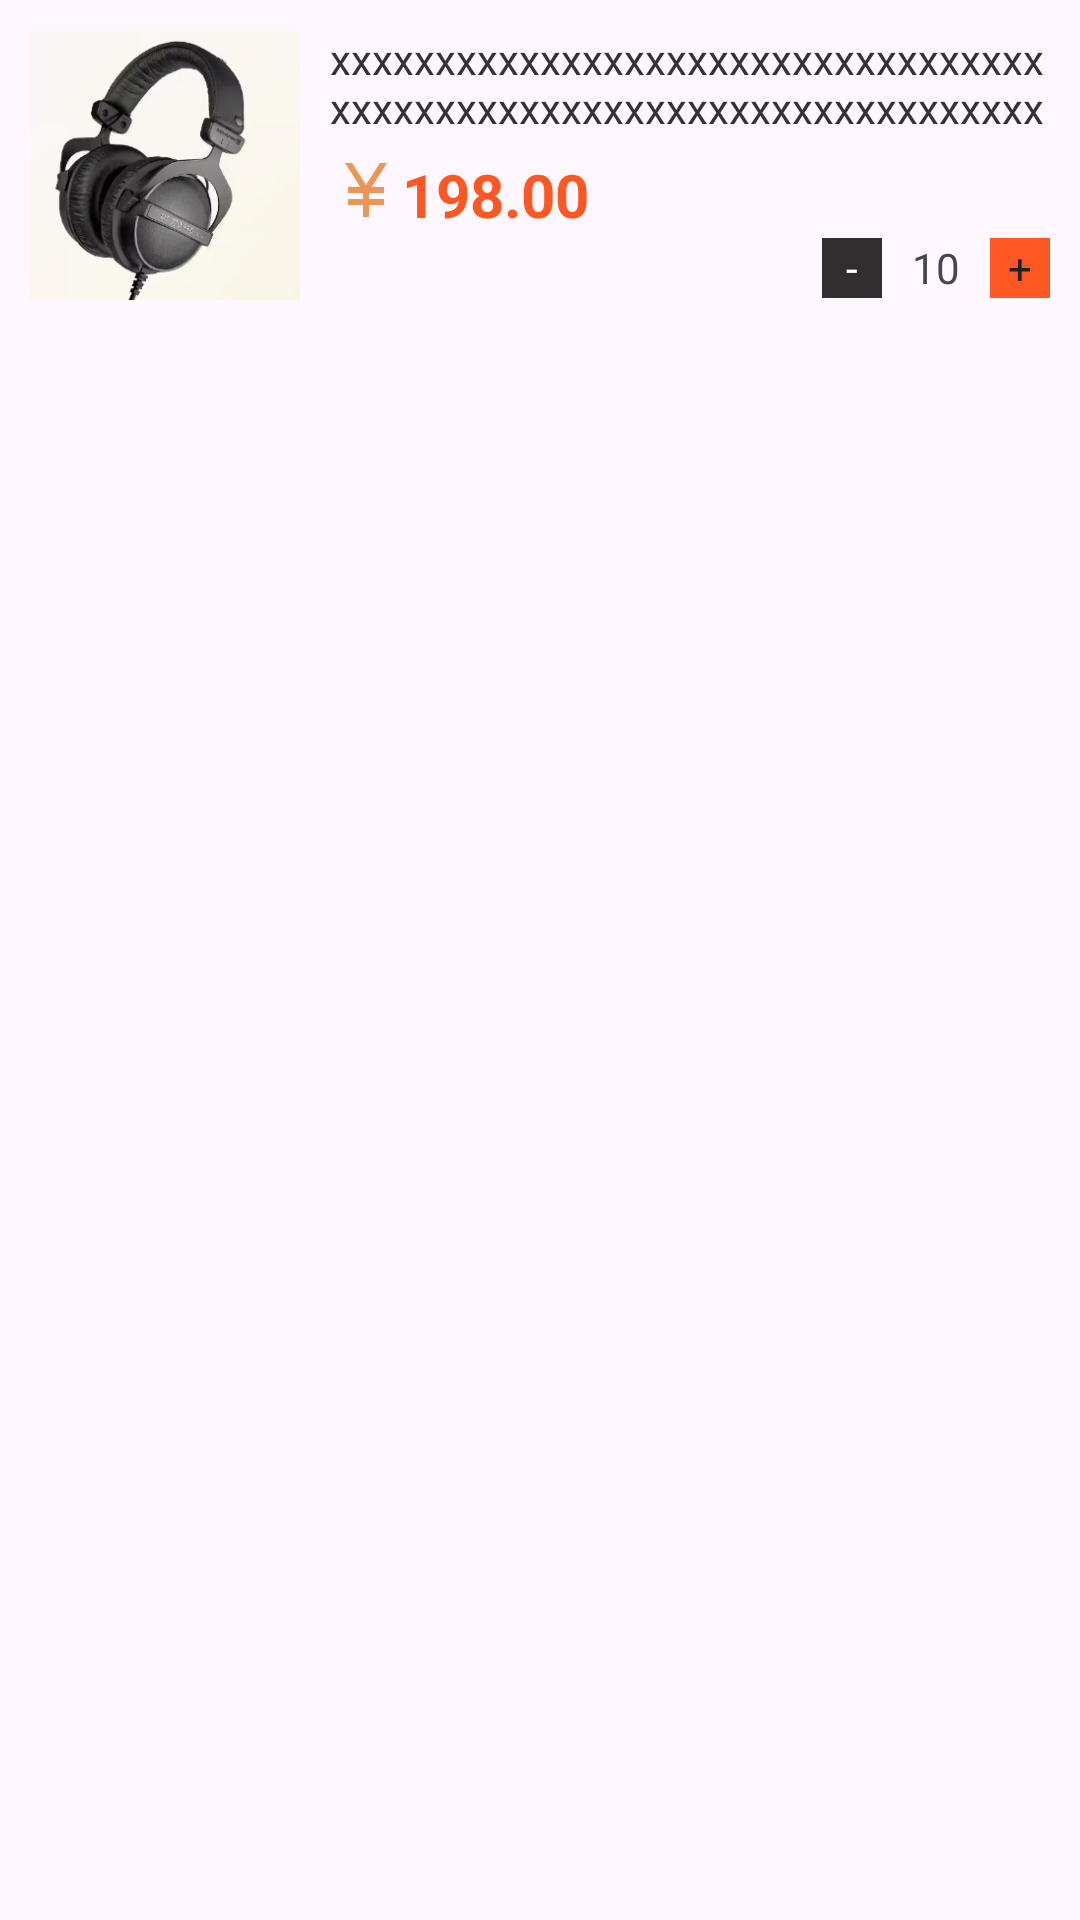

Icons on this 1080w x 1920h Android screen, each with the point to tap as (x,y):
currency yen: (366,190)
